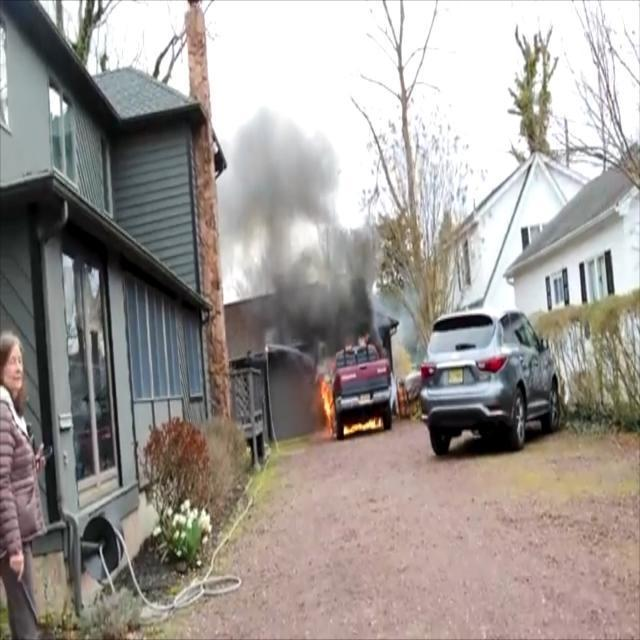fire: (314, 352, 336, 437), (339, 416, 392, 435)
